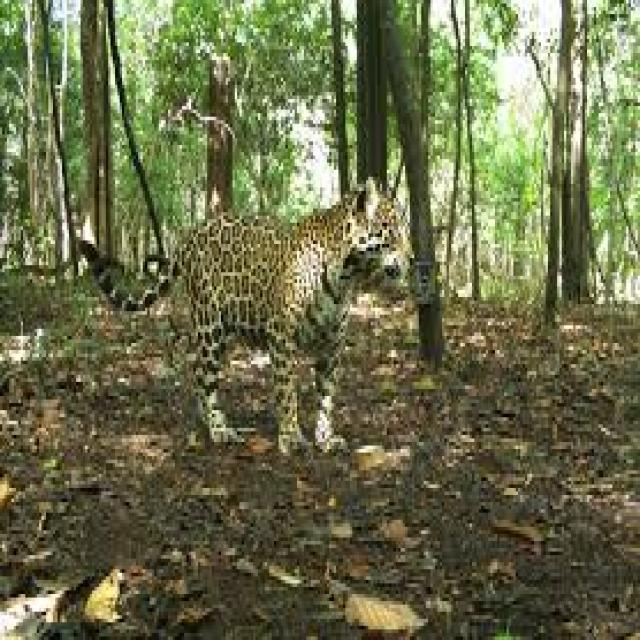Jaguar: (78, 173, 419, 456)
